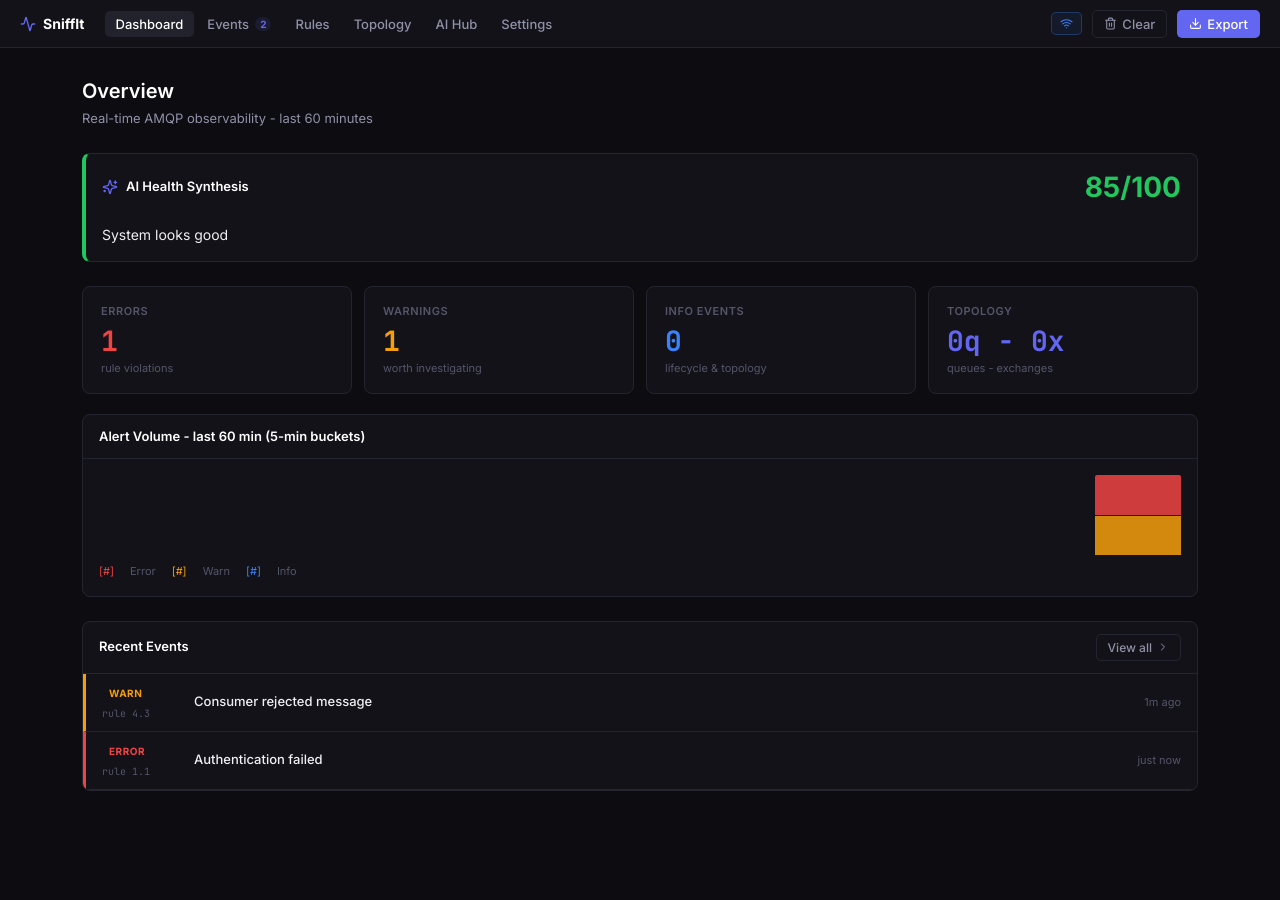
SniffIt APP › handles clearing history
The width and height of the screenshot is (1280, 900).
Check: the text "Authentication failed" is shown, box 194,750 -> 323,766
Click the button titled "clear all history" at (1130, 24), box 1092,10 -> 1167,38
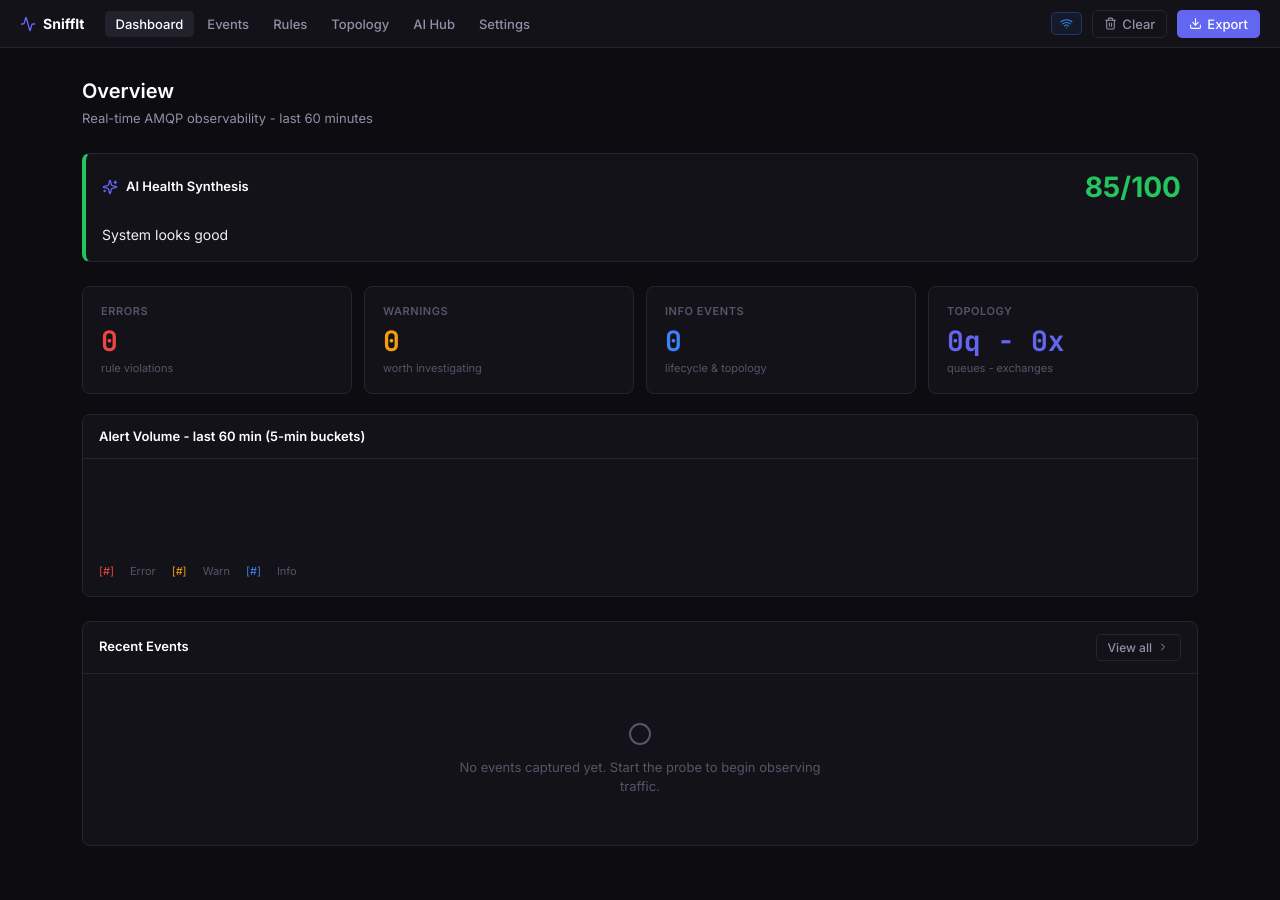
Check: the text "No events captured yet" is shown, box 459,758 -> 821,794
Check: the text "Authentication failed" is gone
